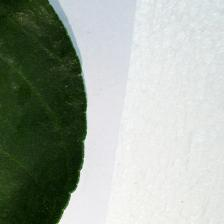healthy: (2, 1, 88, 224)
